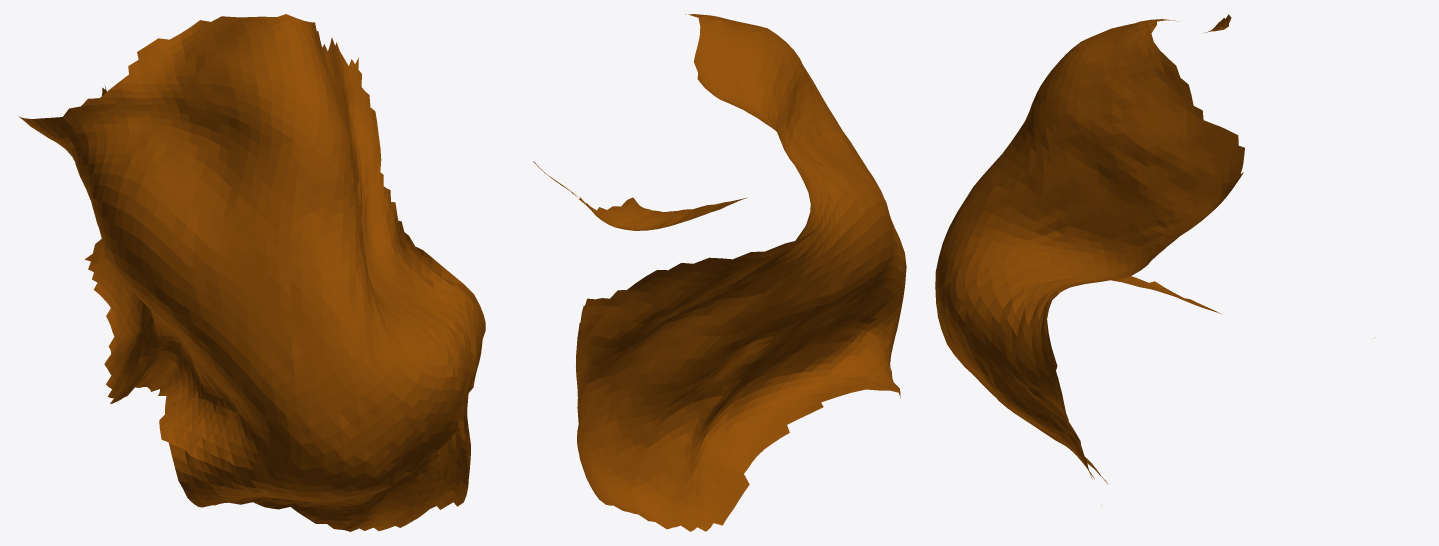
The model's file is lh_caudalmiddlefrontal.glb.
3 renders of one model, left to right at view 1: azimuth 30°, elevation 25°; view 2: azimuth 150°, elevation 25°; view 3: azimuth 270°, elevation 25°, orthographic. The views are drawn at different scales.
Visible parts, largest first — view 1: world; view 2: world; view 3: world.
Boxes of the visible parts, bbox=[...] form: world: bbox=[18, 14, 485, 531]; world: bbox=[533, 14, 906, 531]; world: bbox=[935, 14, 1375, 484].
Bounding box in the file's own units: 24.42 × 35.38 × 33.84.
